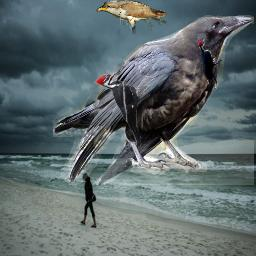Crow: (53, 15, 254, 185)
Cuckoo: (96, 0, 167, 34)
Woodpecker: (94, 70, 148, 149), (198, 37, 222, 89)
